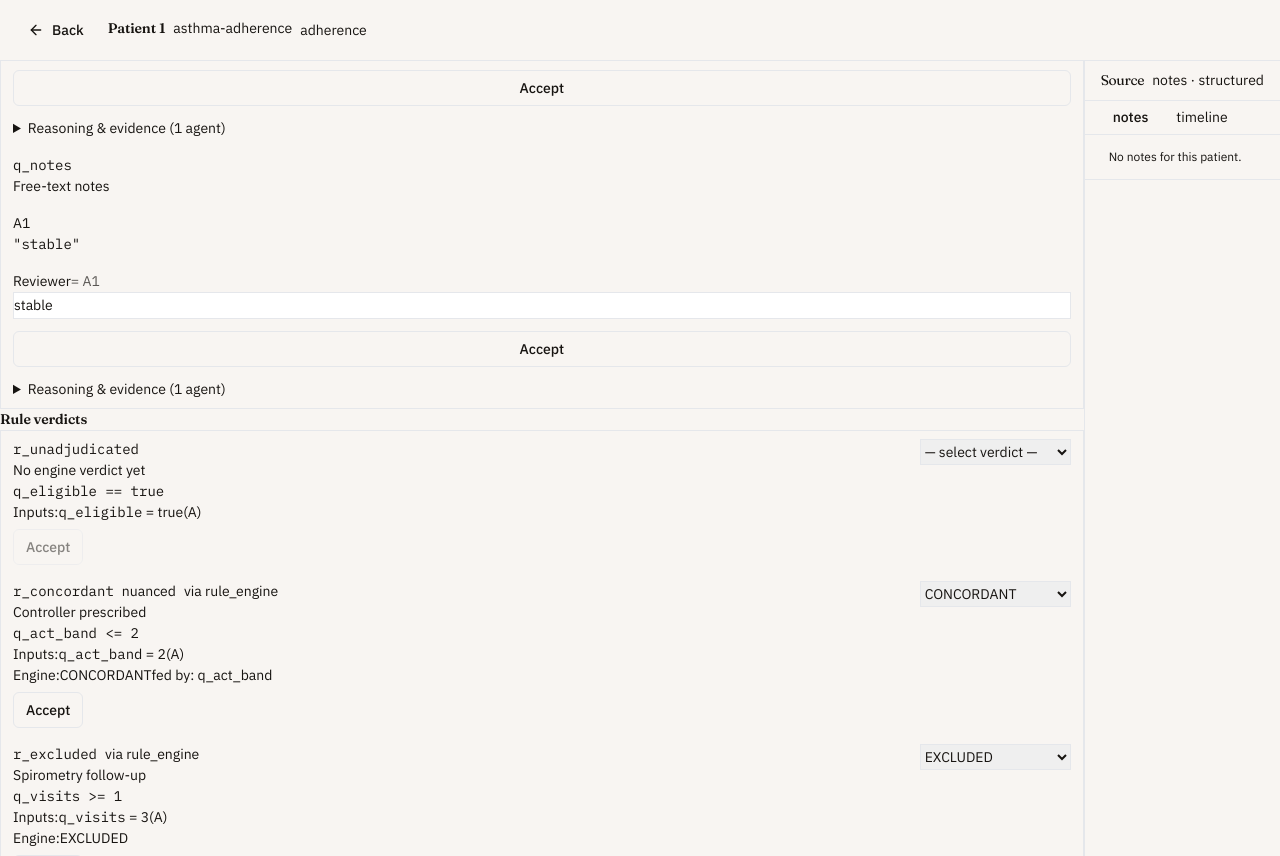
Test: Rule verdict Save › changing an engine CONCORDANT → NON_CONCORDANT marks dirty (button 'Save')
(page scrolled)
Select "NON_CONCORDANT" in the dropdown in the row of "nuanced": (995, 594) x1=920 y1=581 x2=1071 y2=607
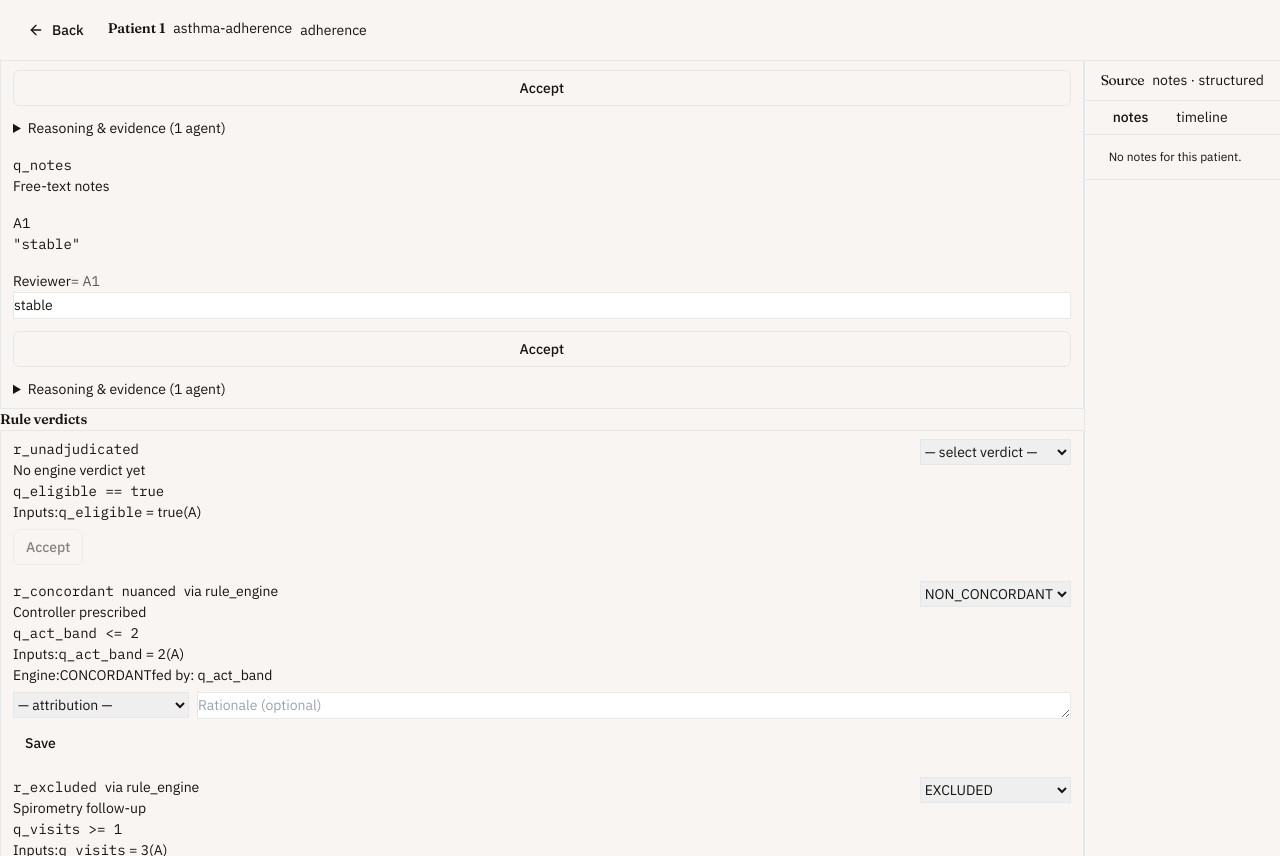
Expected: the button "Save" is shown, x1=13 y1=725 x2=68 y2=761
